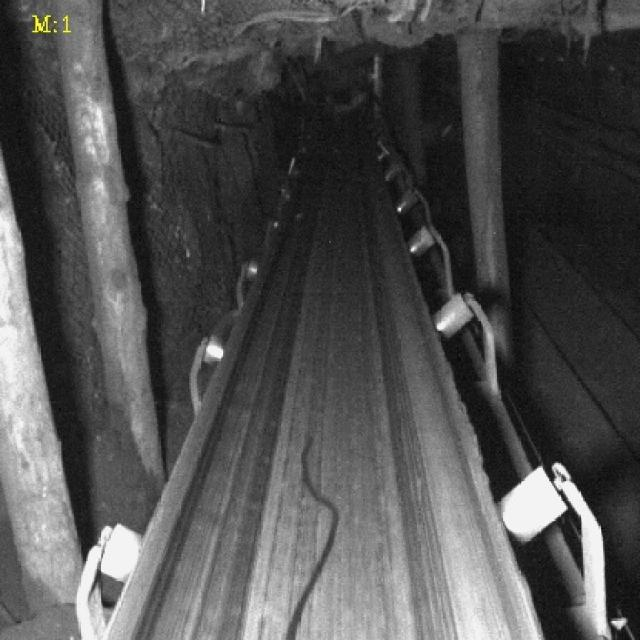bolt: (283, 429, 342, 640)
